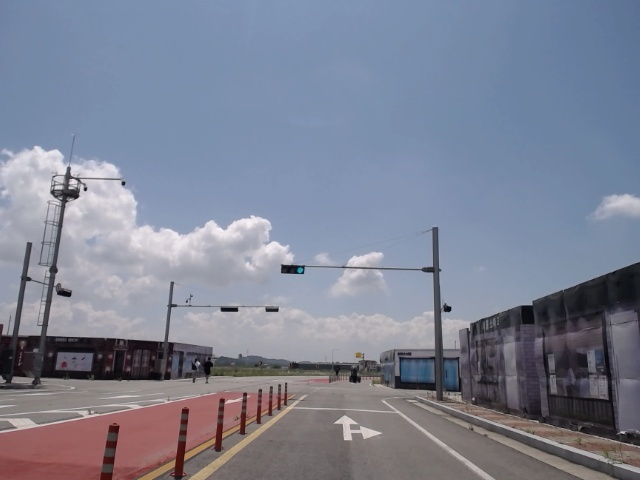green_3: (281, 265, 305, 274)
